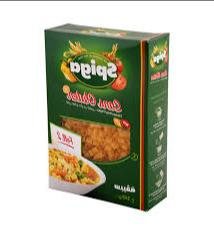Fell: (44, 22, 168, 210)
